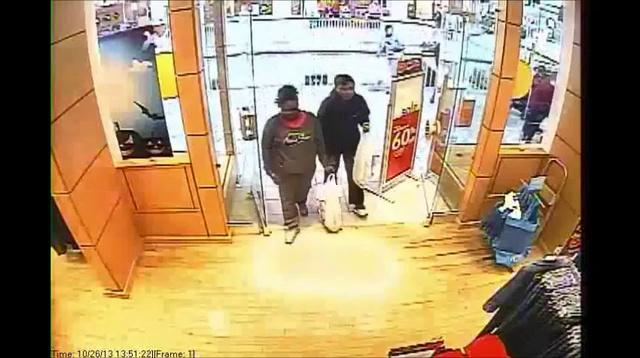3: (314, 50, 379, 229), (255, 62, 322, 230)
persone: (347, 138, 380, 191), (312, 180, 345, 230)
